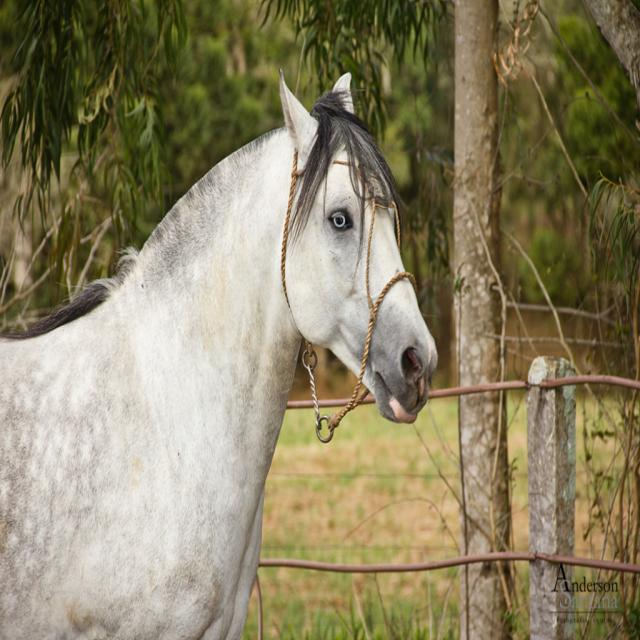Horse: (0, 68, 438, 639)
